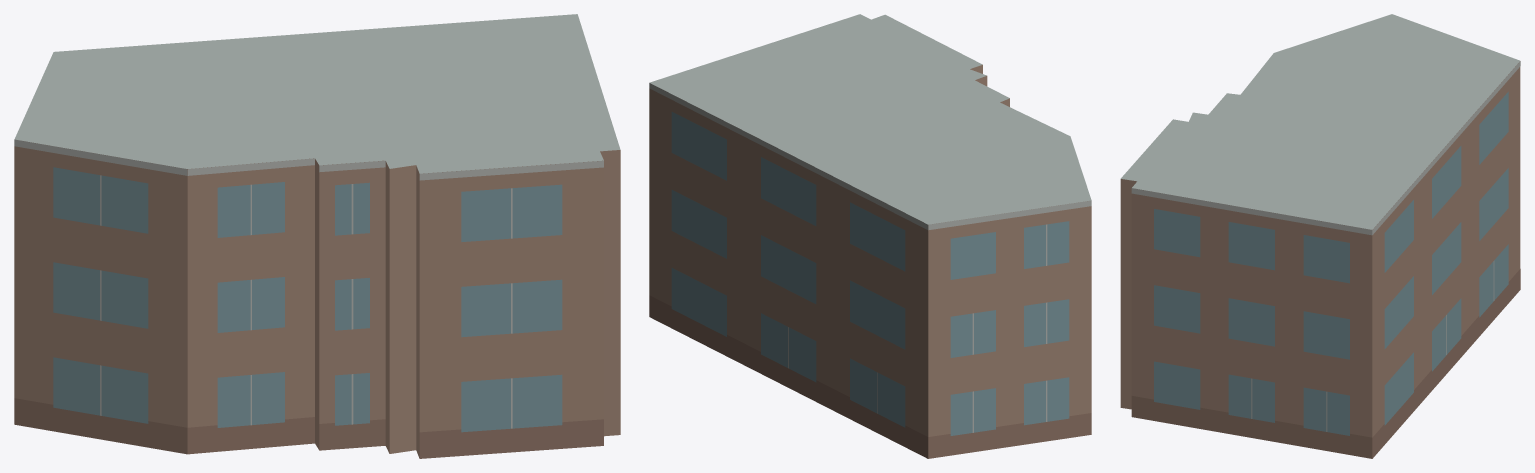
Rendered from survey-upis-33022656.glb.
3 views of the same model, side by side, from view 1: azimuth 30°, elevation 25°; view 2: azimuth 150°, elevation 25°; view 3: azimuth 270°, elevation 25° (orthographic). The views are drawn at different scales.
Parts seen in each view (by area): view 1: survey-upis-33022656.tmp; view 2: survey-upis-33022656.tmp; view 3: survey-upis-33022656.tmp.
Boxes of the visible parts, x1,y1,x2,y2 form: survey-upis-33022656.tmp: (14, 14, 620, 458); survey-upis-33022656.tmp: (649, 14, 1091, 458); survey-upis-33022656.tmp: (1120, 14, 1520, 458).
Size of the model in its own units: 20.63 by 10.2 by 16.16.
